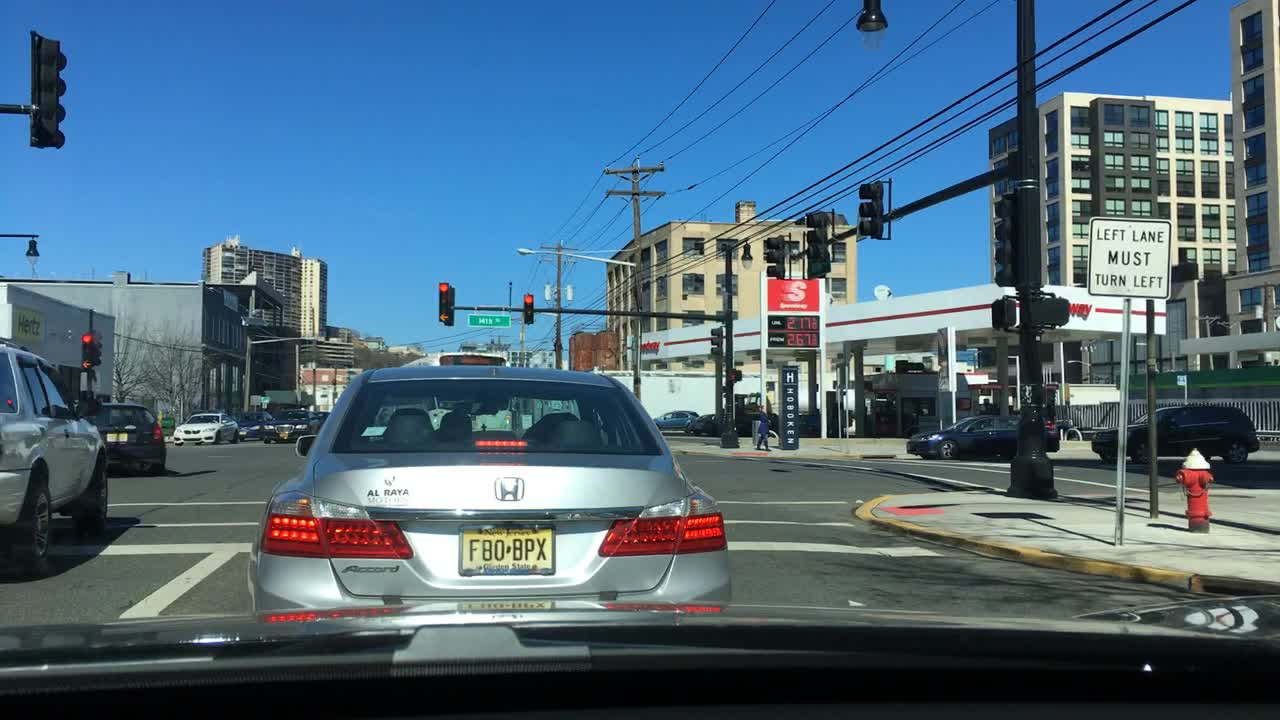bus: (404, 348, 504, 369)
car: (245, 362, 736, 608), (0, 343, 113, 574), (1093, 405, 1261, 466), (903, 411, 1064, 460), (77, 402, 169, 476), (172, 409, 238, 446), (266, 409, 312, 442), (688, 411, 737, 436), (649, 408, 699, 431), (236, 411, 272, 440), (315, 409, 332, 426)
person: (754, 409, 771, 448)
traffic light: (27, 27, 67, 145), (989, 196, 1016, 287), (856, 178, 893, 242), (801, 210, 829, 277), (1025, 297, 1074, 328), (762, 231, 790, 279), (991, 299, 1017, 330), (438, 279, 455, 325), (708, 327, 725, 360), (80, 333, 94, 371), (521, 291, 535, 328), (94, 337, 102, 370), (727, 365, 741, 382)
traffic sign: (1086, 211, 1172, 300), (467, 311, 509, 328), (1174, 371, 1188, 385), (161, 415, 175, 429), (247, 395, 262, 406), (261, 395, 273, 404)
